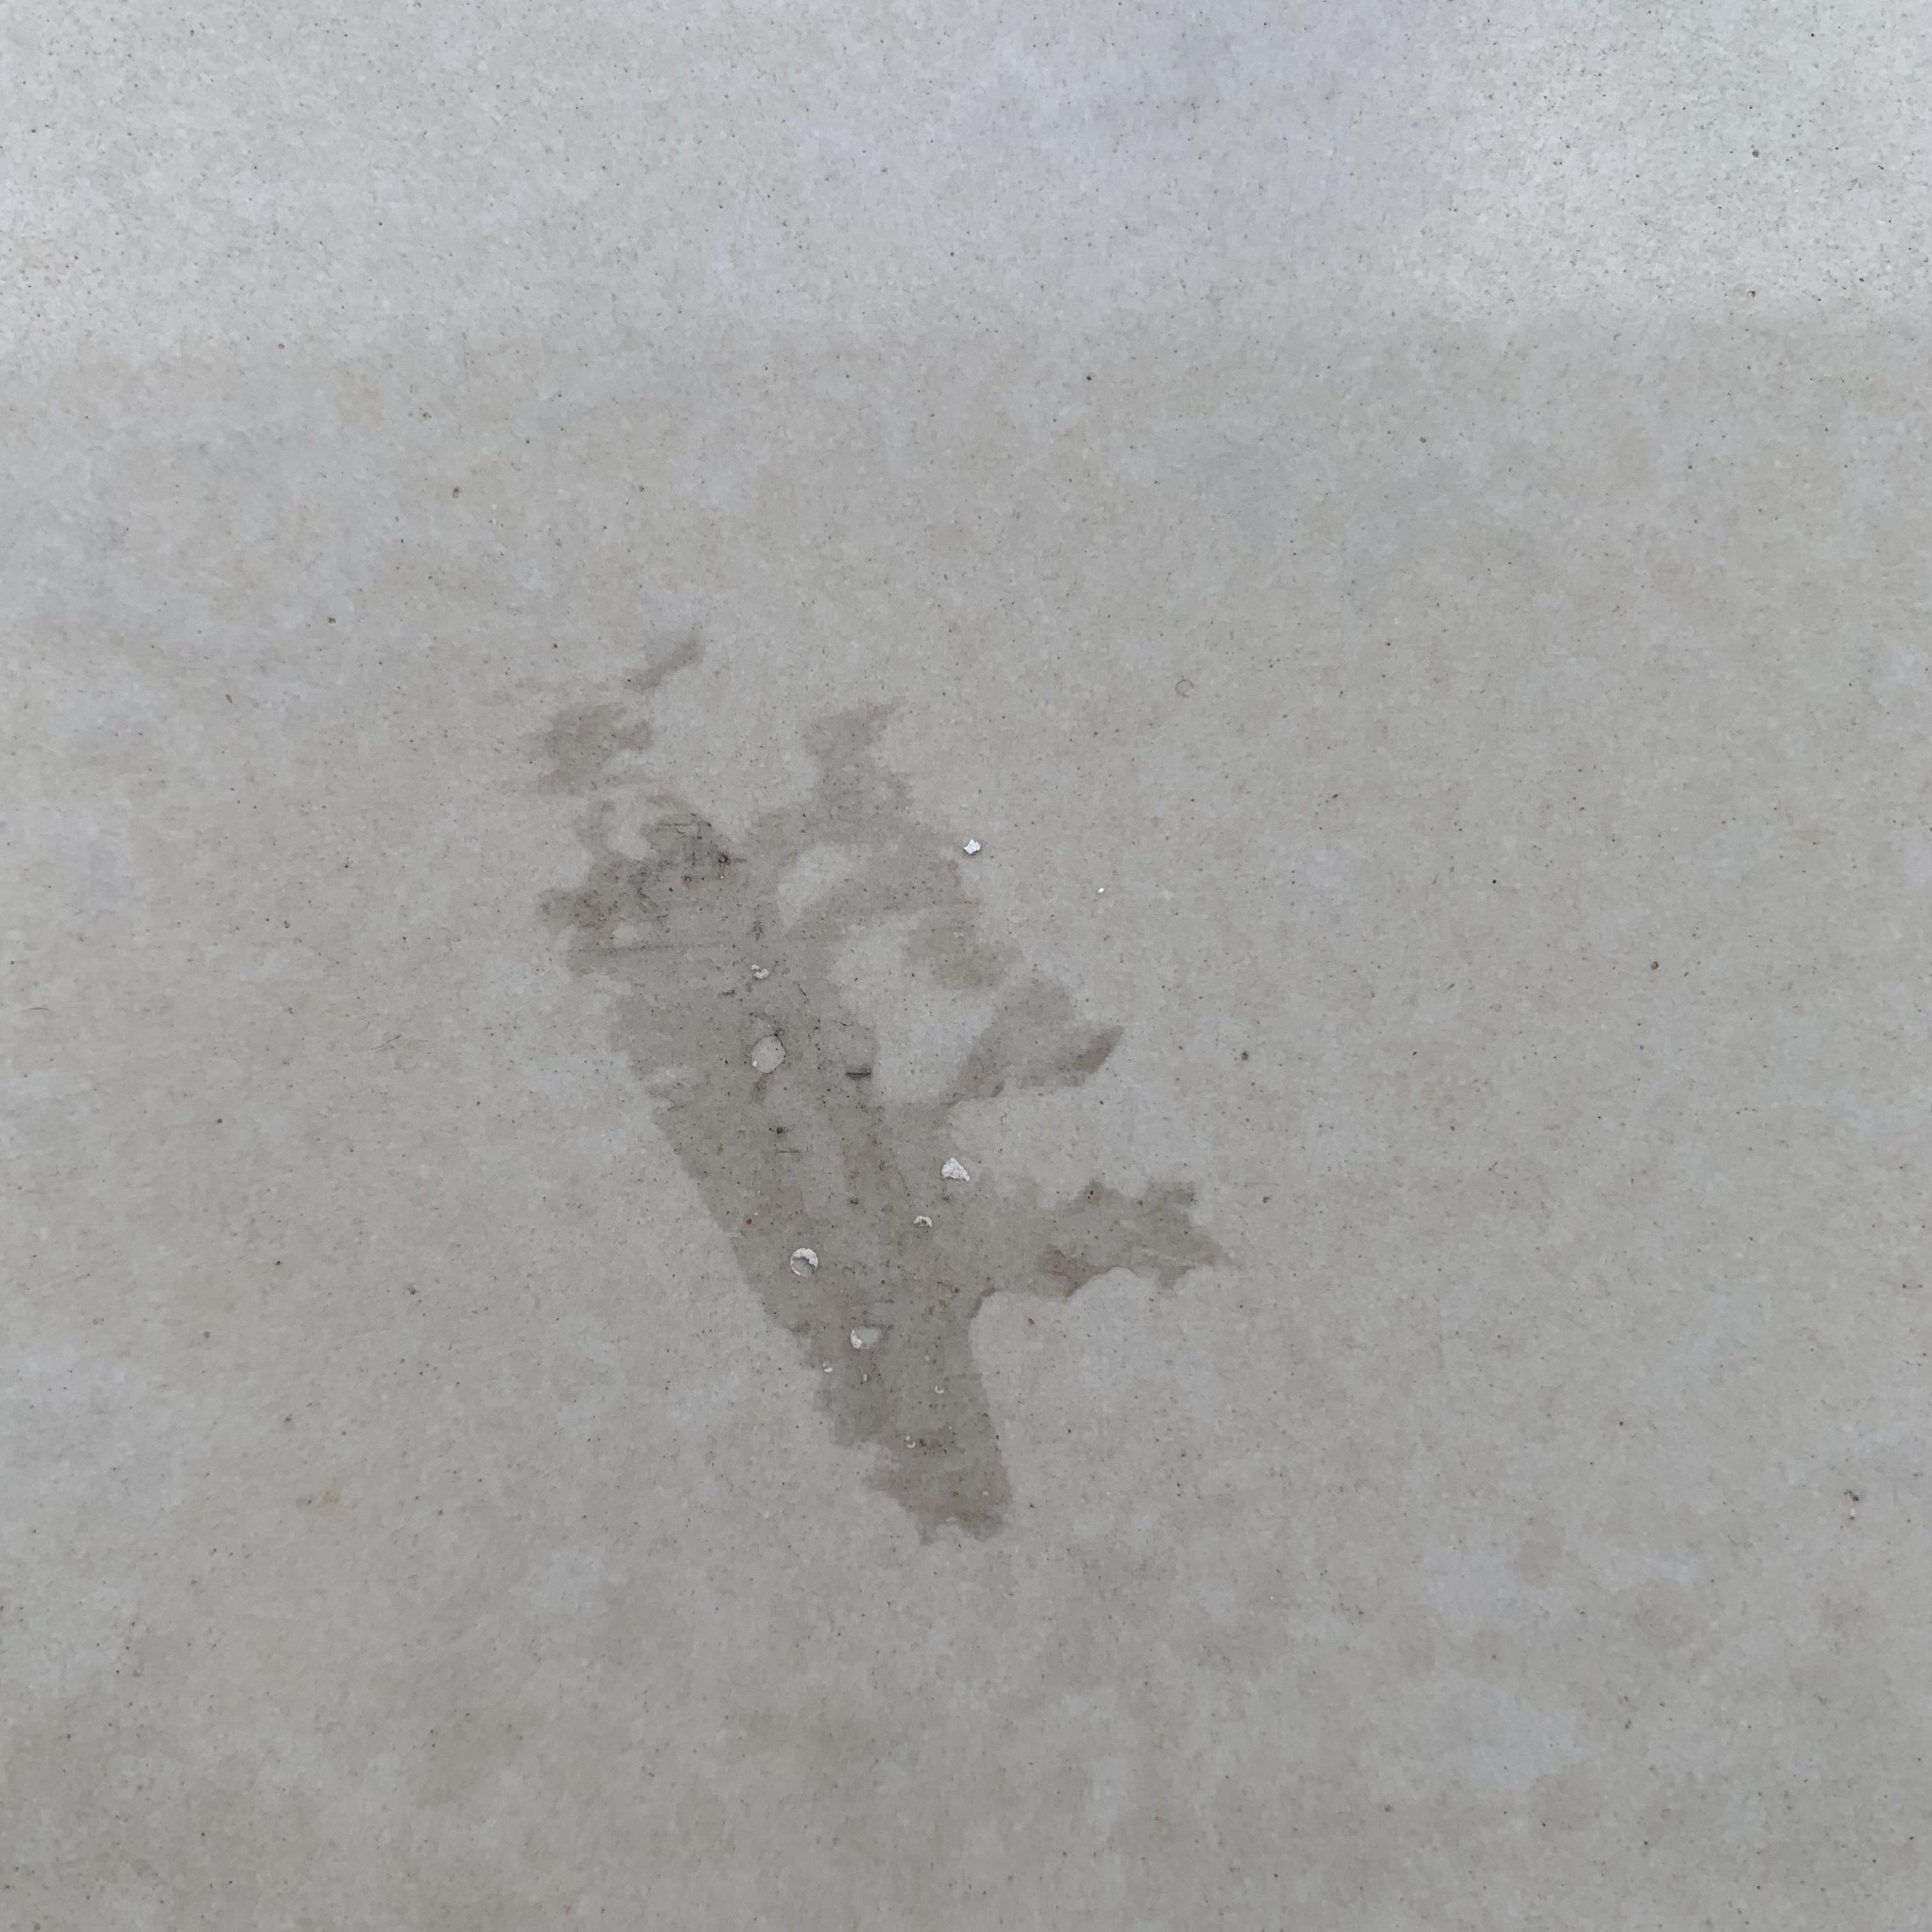grey spot: (495, 628, 1224, 1539)
